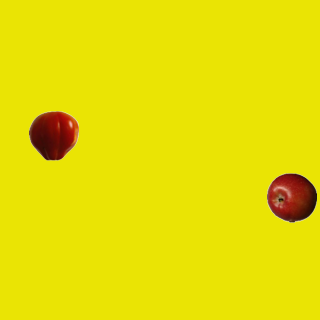Apple Braeburn: (266, 172, 316, 222)
Tomato 1: (28, 110, 78, 160)
